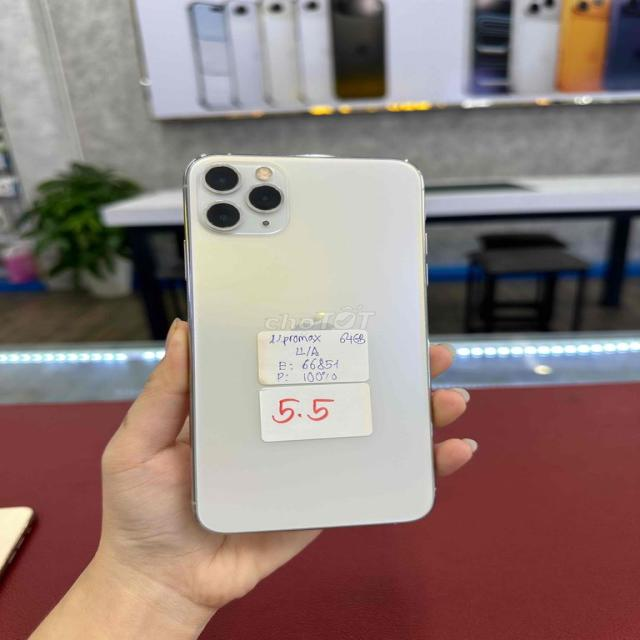gen_11: (173, 145, 455, 535)
scratch: (200, 160, 285, 232)
